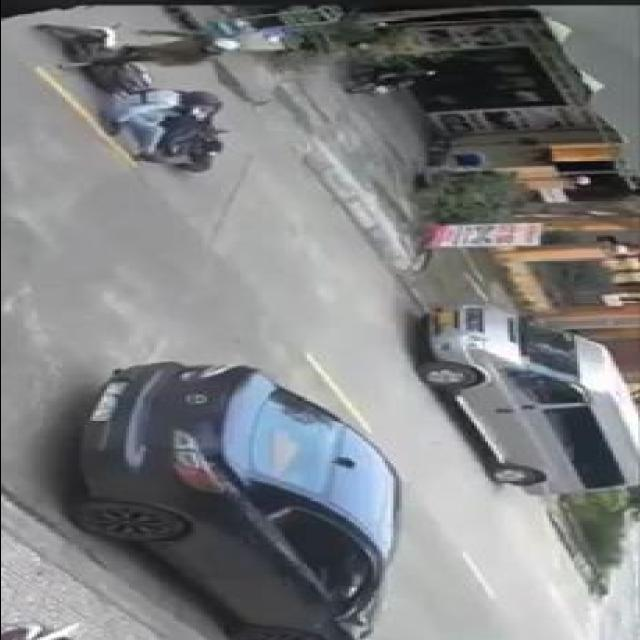accident: (27, 19, 261, 177)
